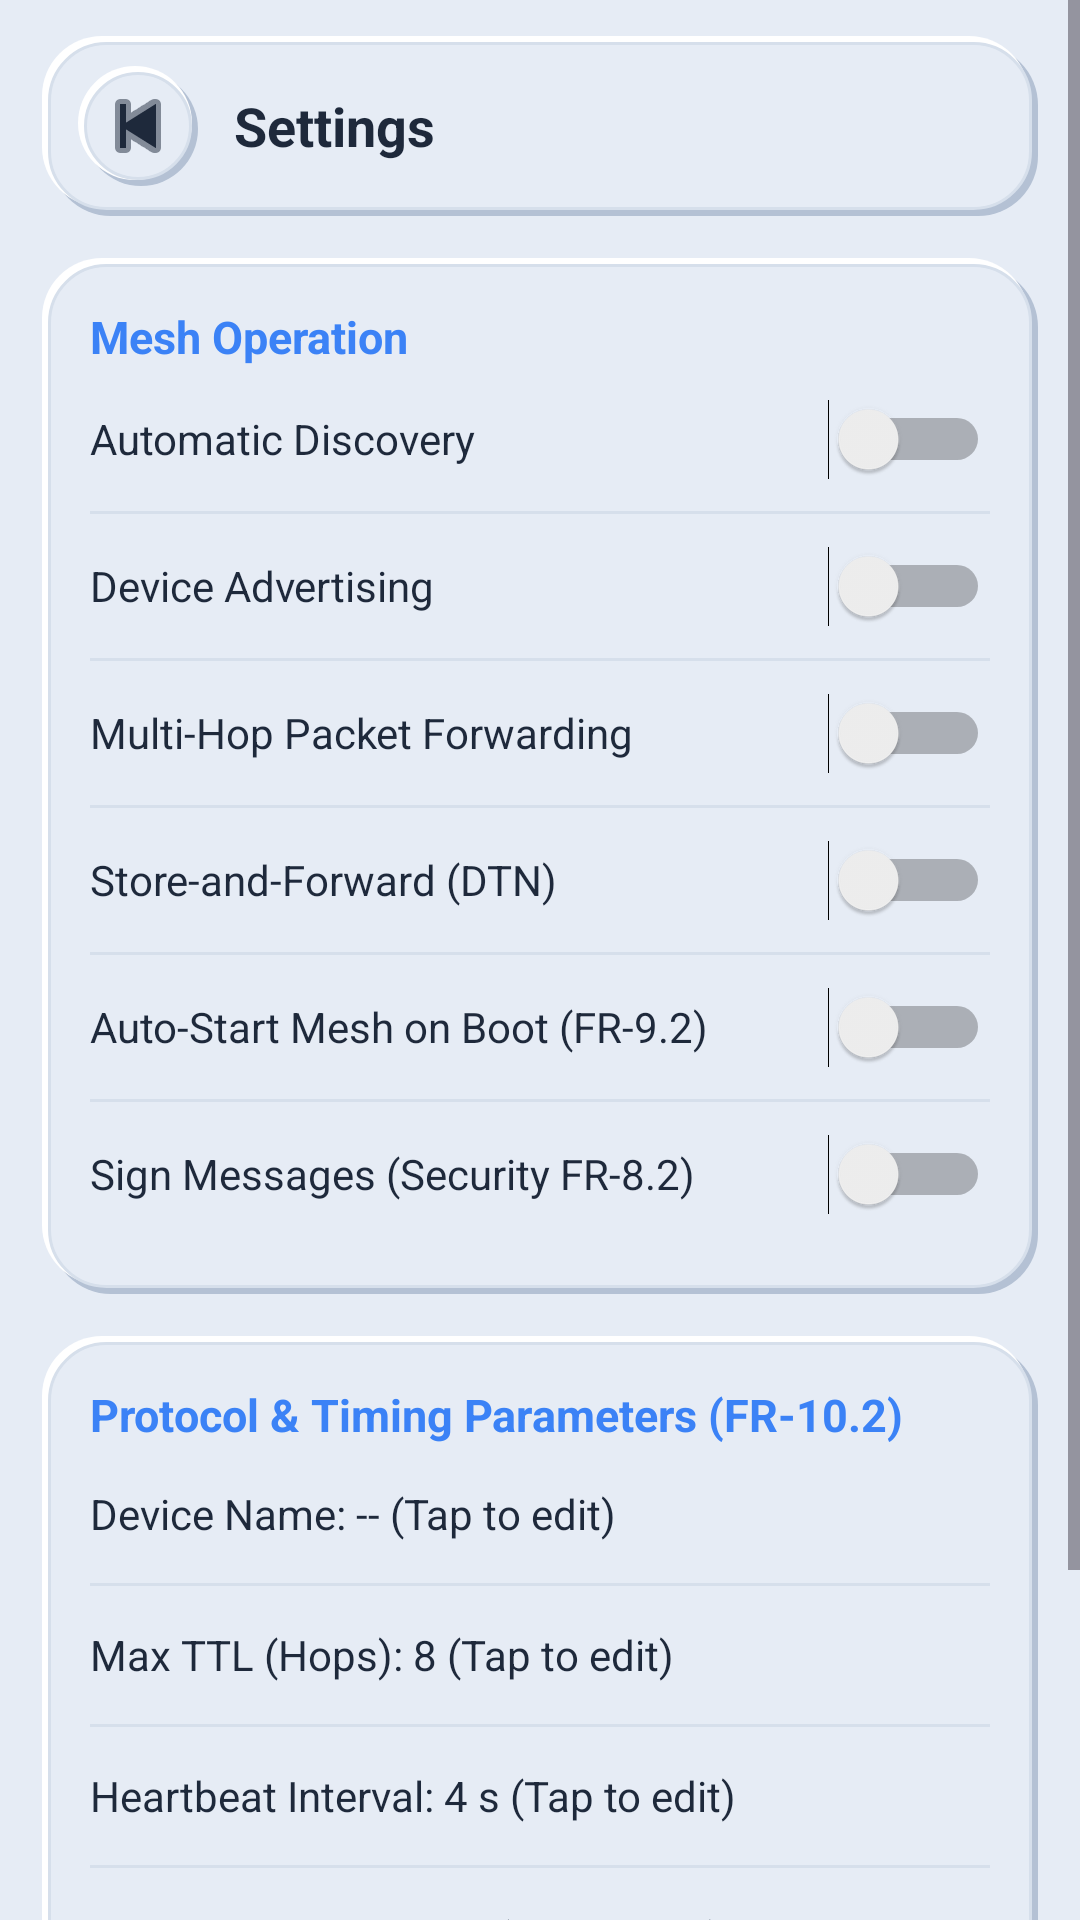

Screen size 1080*1920. Icon name, then its center in pixels as (x,y):
Back: (138,126)
